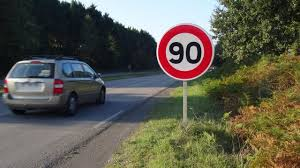Speed_limit_90km: (156, 23, 214, 80)
car: (4, 58, 110, 114)
